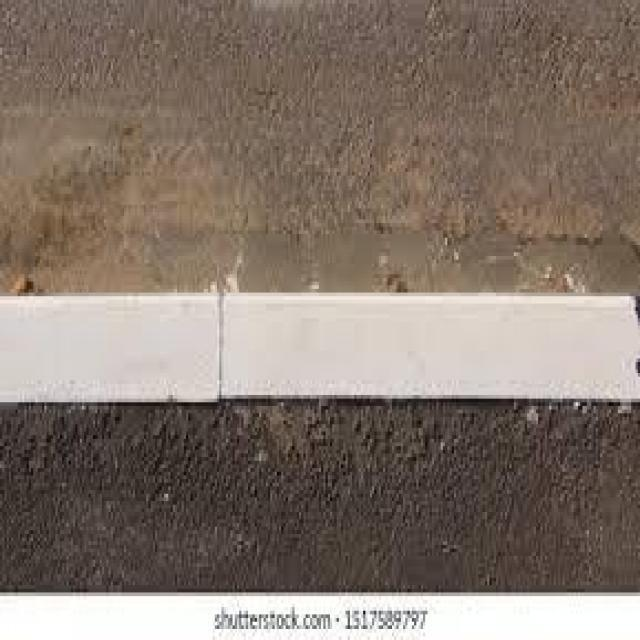curb: (1, 298, 640, 404)
